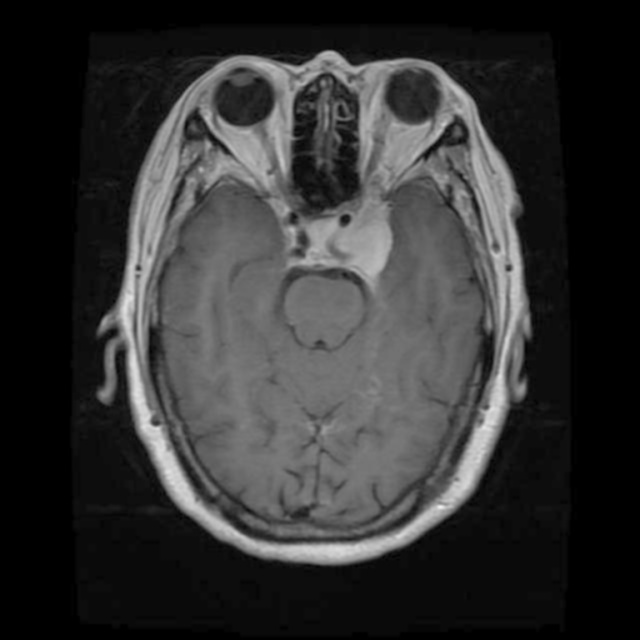meningioma tumor: (300, 214, 392, 276)
